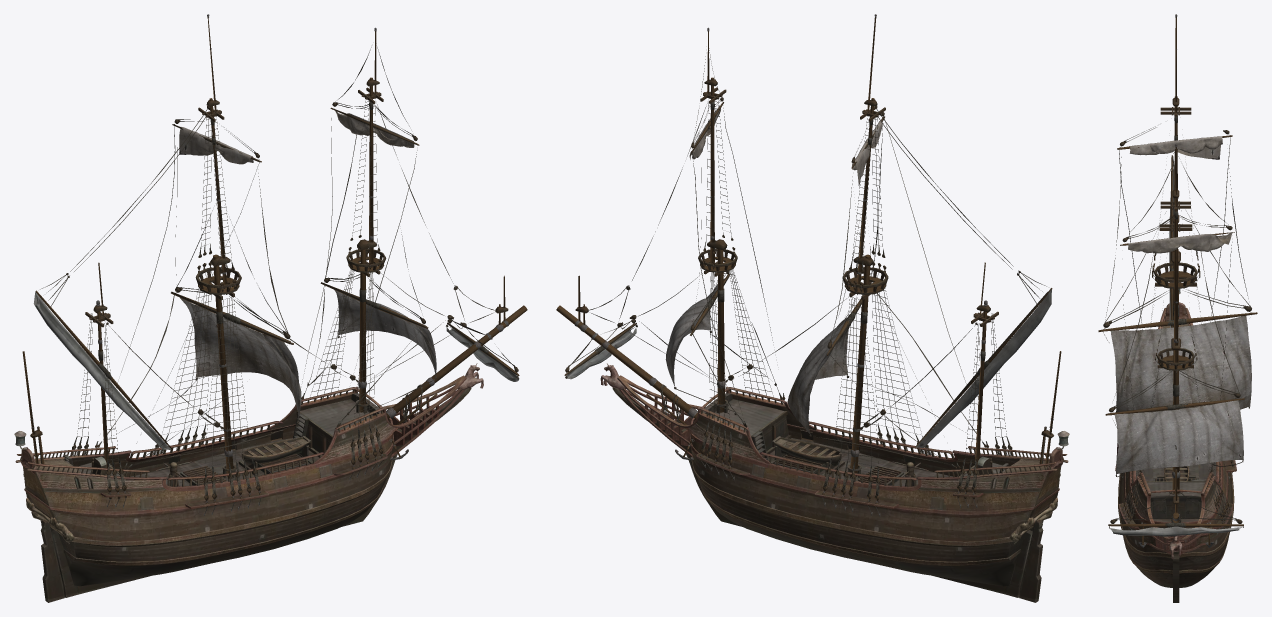
File: dutch_ship_medium.glb
The picture shows the model from 3 angles, left to right: view 1: azimuth 30°, elevation 25°; view 2: azimuth 150°, elevation 25°; view 3: azimuth 270°, elevation 25°; orthographic projection. The views are drawn at different scales.
Parts seen in each view (by area): view 1: dutch_ship_medium_hull, dutch_ship_medium_rigging, dutch_ship_medium_sails; view 2: dutch_ship_medium_hull, dutch_ship_medium_rigging, dutch_ship_medium_sails; view 3: dutch_ship_medium_sails, dutch_ship_medium_rigging, dutch_ship_medium_hull.
Boxes of the visible parts, x1=… form: dutch_ship_medium_hull: x1=14, y1=363, x2=483, y2=602; dutch_ship_medium_rigging: x1=22, y1=14, x2=527, y2=515; dutch_ship_medium_sails: x1=179, y1=110, x2=436, y2=419; dutch_ship_medium_hull: x1=600, y1=363, x2=1069, y2=602; dutch_ship_medium_rigging: x1=556, y1=14, x2=1061, y2=516; dutch_ship_medium_sails: x1=665, y1=105, x2=882, y2=434; dutch_ship_medium_sails: x1=1110, y1=136, x2=1251, y2=473; dutch_ship_medium_rigging: x1=1098, y1=14, x2=1257, y2=547; dutch_ship_medium_hull: x1=1115, y1=289, x2=1236, y2=602.
Size of the model in its own units: 24.07 by 24.66 by 6.81.
3 materials, 3 textured.
